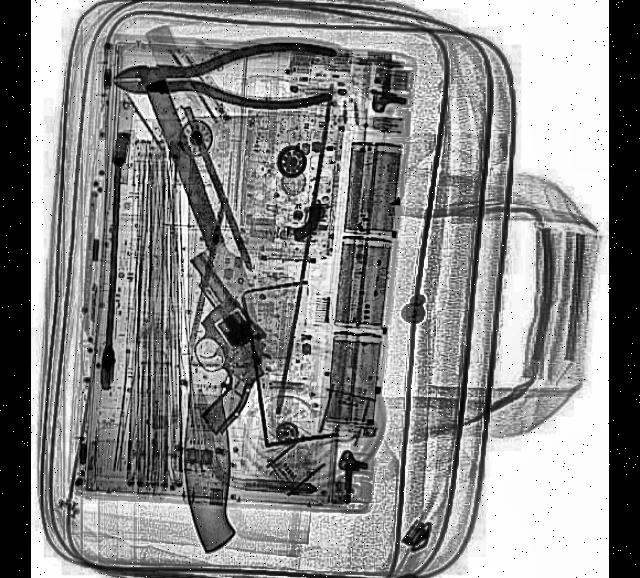Gun: (132, 248, 288, 440)
Knife: (145, 74, 279, 368), (187, 154, 236, 552)
Pliers: (115, 42, 338, 114)
